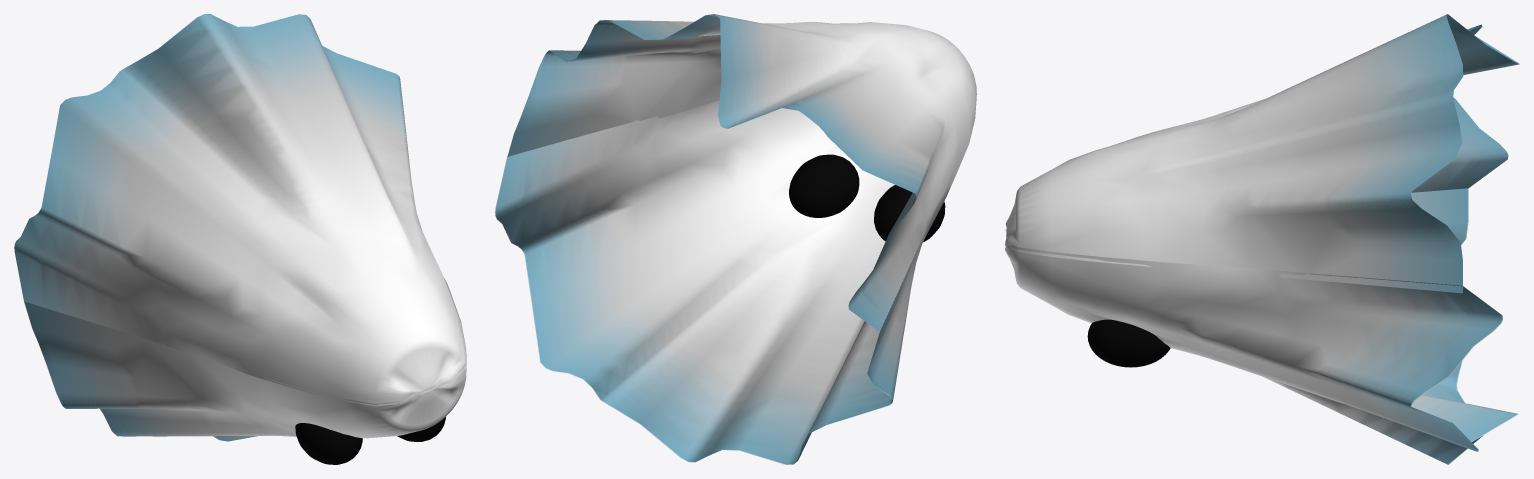
File: ghost1.dae
3 renders of one model, left to right at view 1: azimuth 30°, elevation 25°; view 2: azimuth 150°, elevation 25°; view 3: azimuth 270°, elevation 25°, orthographic. The views are drawn at different scales.
Visible parts, largest first — view 1: nurbsToPoly3, nurbsToPoly2, pSphere2, pSphere3; view 2: nurbsToPoly2, nurbsToPoly3, pSphere3, pSphere2; view 3: nurbsToPoly3, nurbsToPoly2, pSphere3.
Boxes of the visible parts, x1,y1,x2,y2 form: nurbsToPoly3: [14, 14, 466, 406]; nurbsToPoly2: [24, 276, 466, 441]; pSphere2: [295, 423, 362, 464]; pSphere3: [397, 417, 445, 441]; nurbsToPoly2: [495, 100, 976, 464]; nurbsToPoly3: [507, 14, 976, 331]; pSphere3: [789, 154, 859, 217]; pSphere2: [874, 185, 945, 241]; nurbsToPoly3: [1005, 14, 1519, 293]; nurbsToPoly2: [1005, 188, 1518, 464]; pSphere3: [1087, 319, 1170, 367].
Size of the model in its own units: 0.9218 by 1.01 by 1.08.
2 materials, 2 textured.
